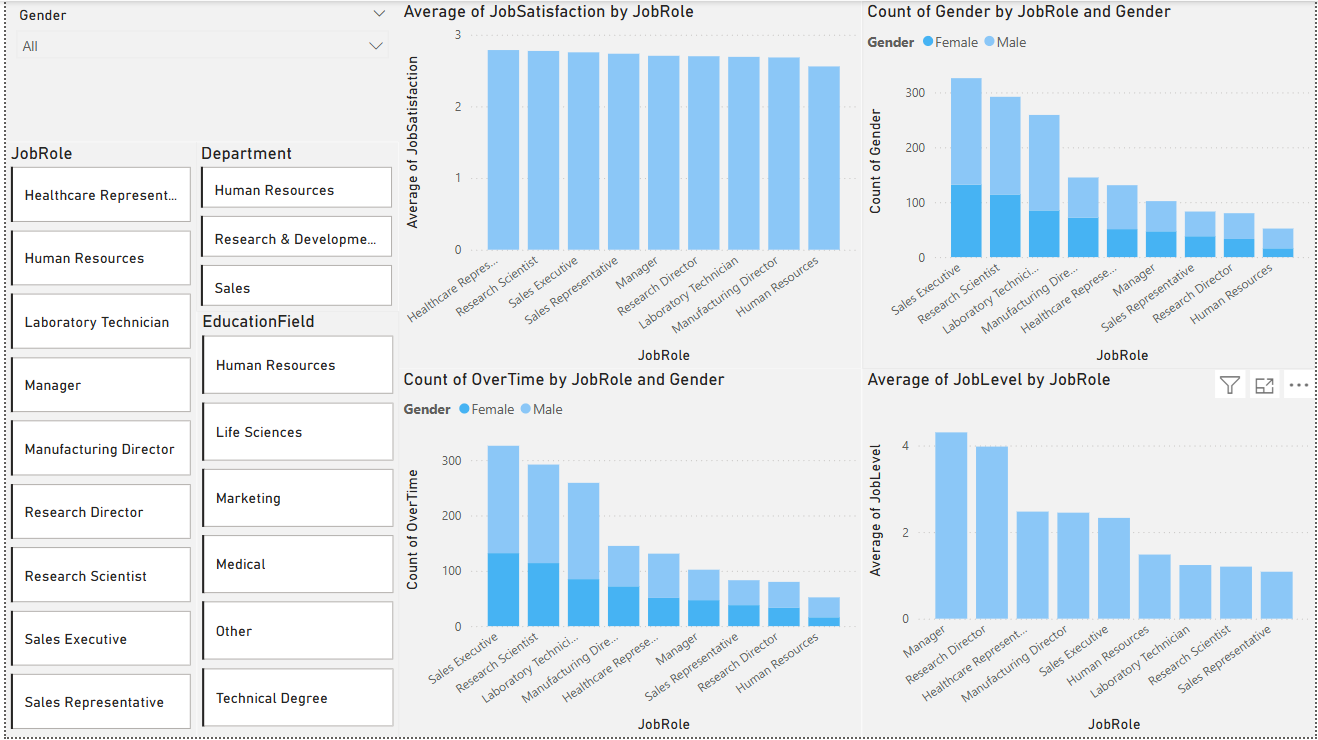

The page's visual inventory and layout, read from the dashboard file:
{"tool":"powerbi","page":{"name":"Page 2","canvas":[1280,720],"ordinal":1},"visuals":[{"type":"columnChart","fields":{"Category":["cleaned_IBM.JobRole"],"Y":["Avg(cleaned_IBM.JobSatisfaction)"]},"box":[384.2,0,453.2,359.3],"z":0},{"type":"columnChart","fields":{"Category":["cleaned_IBM.JobRole"],"Y":["Avg(cleaned_IBM.JobLevel)"]},"box":[837.4,359.3,442.9,360.8],"z":1000},{"type":"columnChart","fields":{"Category":["cleaned_IBM.JobRole"],"Series":["cleaned_IBM.Gender"],"Y":["CountNonNull(cleaned_IBM.Gender)"]},"box":[837.4,0,442.9,359.3],"z":2000},{"type":"columnChart","fields":{"Category":["cleaned_IBM.JobRole"],"Y":["CountNonNull(cleaned_IBM.OverTime)"],"Series":["cleaned_IBM.Gender"]},"box":[384.2,359.3,453.2,360.8],"z":3000},{"type":"advancedSlicerVisual","fields":{"Values":["cleaned_IBM.JobRole"]},"box":[0,137.9,186.3,582.2],"z":4000},{"type":"advancedSlicerVisual","fields":{"Values":["cleaned_IBM.Department"]},"box":[186.3,137.9,198,165.7],"z":5000},{"type":"advancedSlicerVisual","fields":{"Values":["cleaned_IBM.EducationField"]},"box":[186.6,302.8,197.6,417.2],"z":6000},{"type":"slicer","fields":{"Values":["cleaned_IBM.Gender"]},"box":[0,0,384.2,137.9],"z":7000}]}

Visuals, with their boxes in screenshot pixels (x1, y1, x2, y2), scaled from the page's 1280x720 canvas onto the 1318x740 screenshot:
columnChart - cleaned_IBM.JobRole x Avg(cleaned_IBM.JobSatisfaction): detection(396, 0, 862, 369)
columnChart - cleaned_IBM.JobRole x Avg(cleaned_IBM.JobLevel): detection(862, 369, 1317, 739)
columnChart - cleaned_IBM.JobRole x cleaned_IBM.Gender: detection(862, 0, 1317, 369)
columnChart - cleaned_IBM.JobRole x CountNonNull(cleaned_IBM.OverTime): detection(396, 369, 862, 739)
advancedSlicerVisual - cleaned_IBM.JobRole: detection(0, 142, 192, 739)
advancedSlicerVisual - cleaned_IBM.Department: detection(192, 142, 396, 312)
advancedSlicerVisual - cleaned_IBM.EducationField: detection(192, 311, 396, 739)
slicer - cleaned_IBM.Gender: detection(0, 0, 396, 142)
